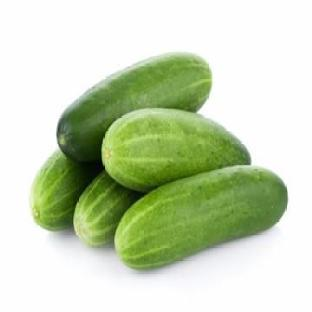Cucumber: (115, 167, 287, 269), (58, 54, 211, 161), (103, 108, 250, 191), (30, 150, 100, 230), (74, 171, 139, 245)
